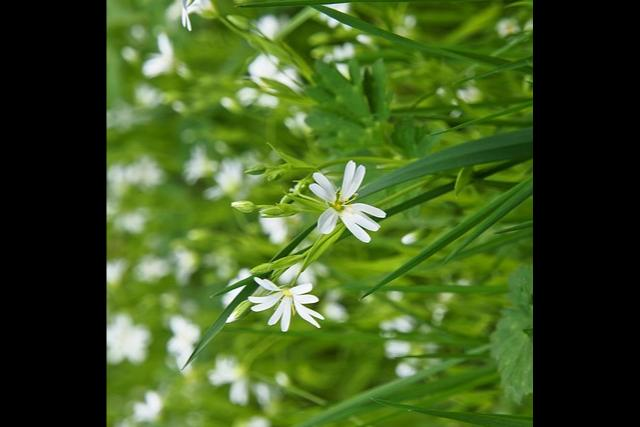Non_Gorille: (140, 0, 527, 427)
